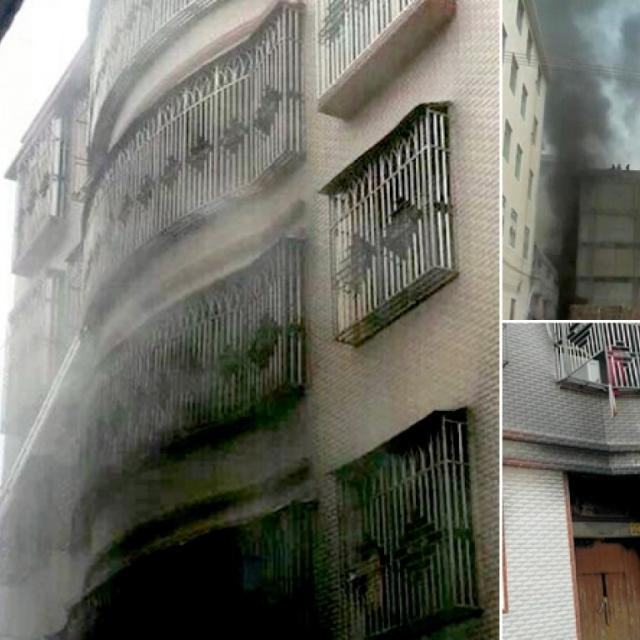Smoke: (0, 249, 198, 632), (0, 9, 196, 248), (196, 140, 412, 304), (514, 0, 638, 268)
